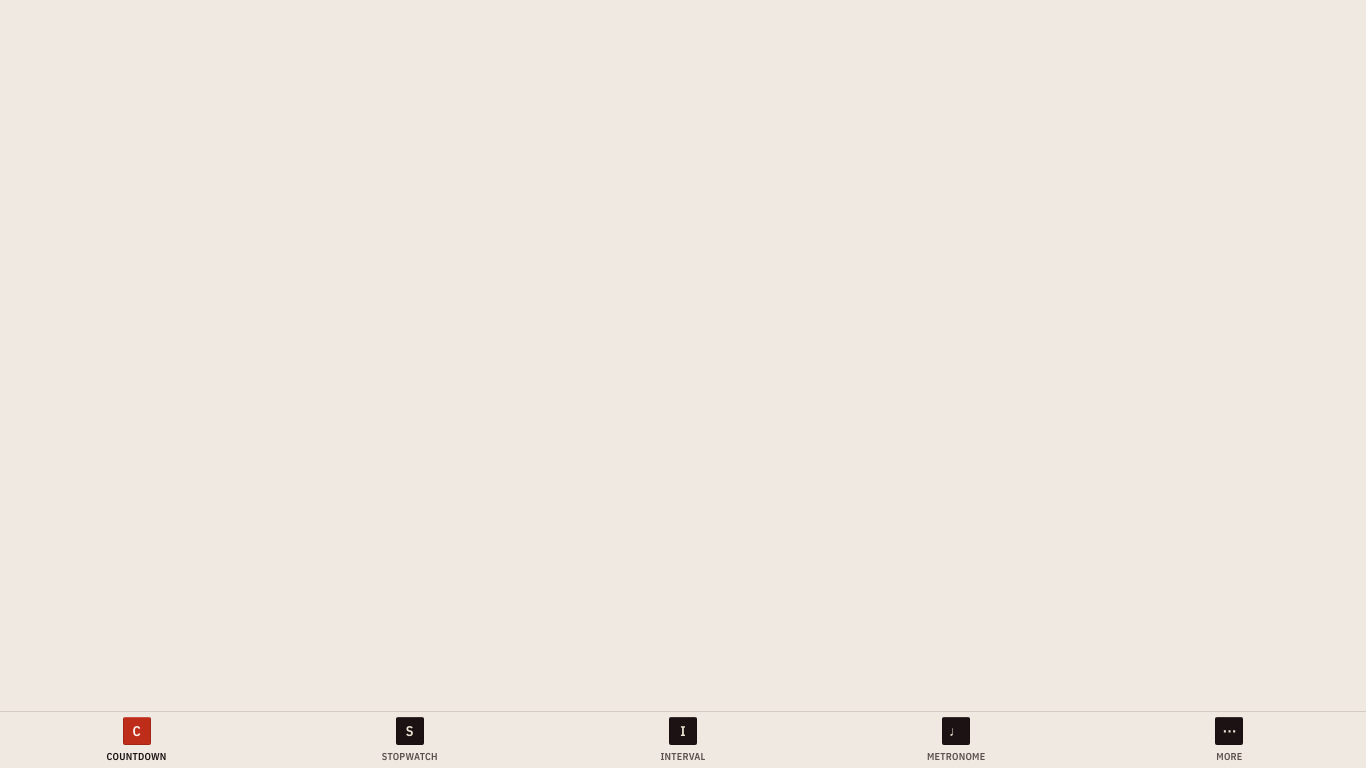
Test: MobileNav › opens the sheet with the remaining tools, display and settings
The width and height of the screenshot is (1366, 768).
What coordinates should you click on to do the following:
click the button "⋯ More"
I would click on:
 (1229, 740)
Its box is [1093, 712, 1365, 767].
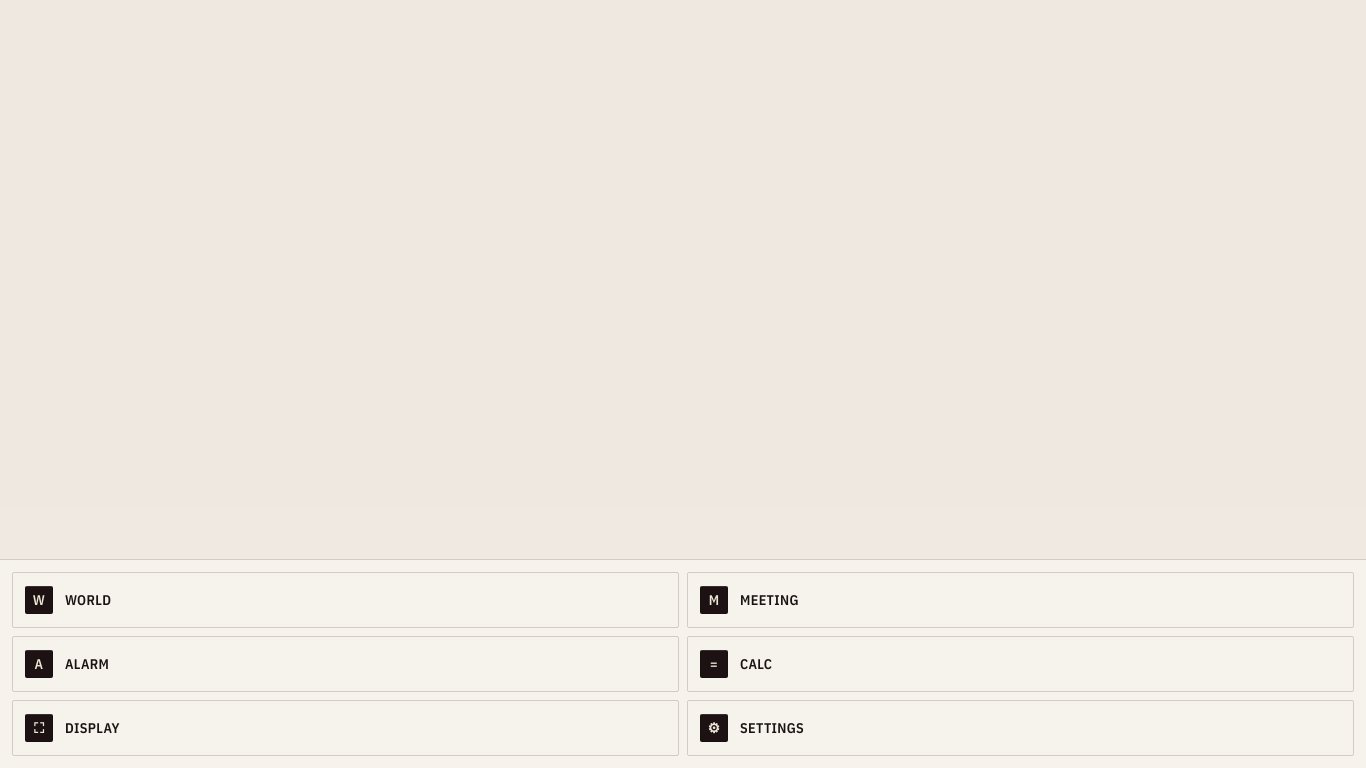
Expected: the dialog named "More tools" is shown, [0, 559, 1365, 767]
Expected: the link "W World" is shown, [12, 572, 679, 628]
Expected: the link "M Meeting" is shown, [687, 572, 1354, 628]
